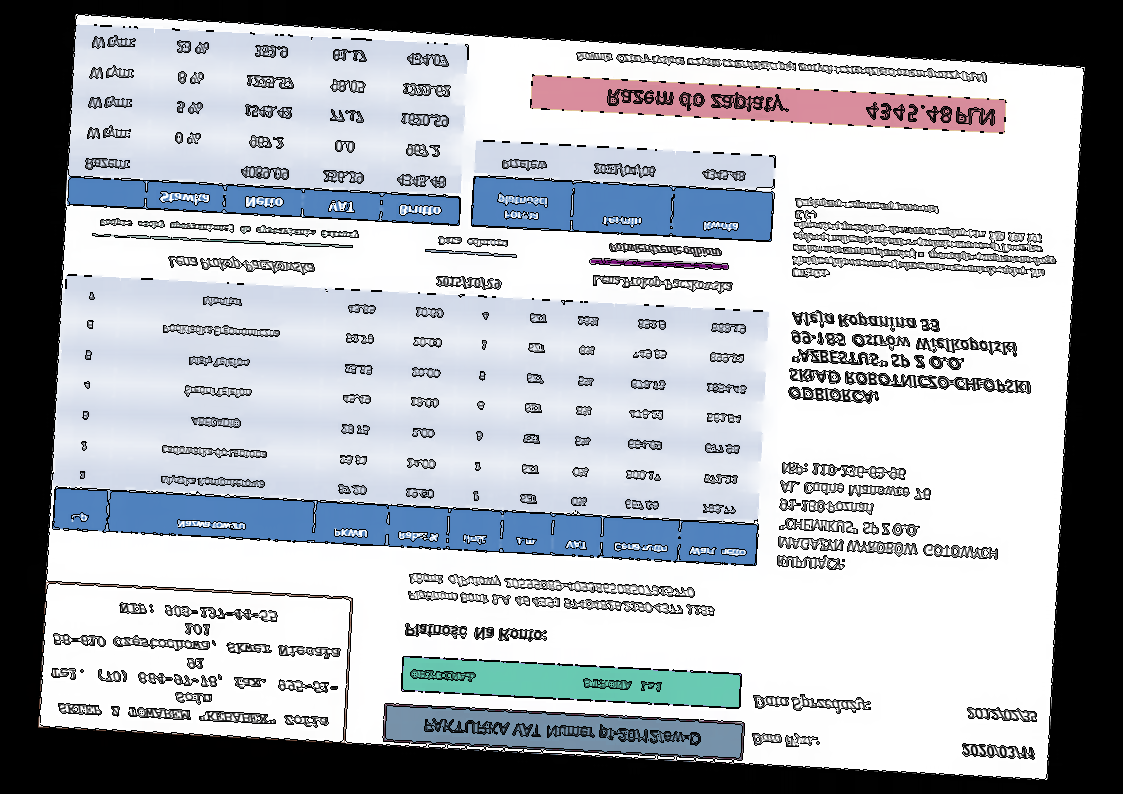Table: (50, 273, 771, 567), (66, 22, 471, 227), (470, 139, 777, 243)
TextBox: (44, 598, 345, 731), (774, 459, 1005, 583), (789, 195, 1062, 293), (786, 308, 1035, 414), (606, 84, 996, 129), (404, 570, 718, 620), (575, 49, 990, 85), (421, 713, 705, 751), (409, 667, 666, 695), (97, 216, 361, 241), (166, 252, 317, 278), (403, 620, 550, 646), (589, 272, 732, 297), (751, 691, 874, 716), (606, 241, 722, 261), (960, 741, 1037, 762), (964, 705, 1039, 725), (750, 730, 821, 751), (434, 272, 503, 293), (436, 234, 509, 251)
